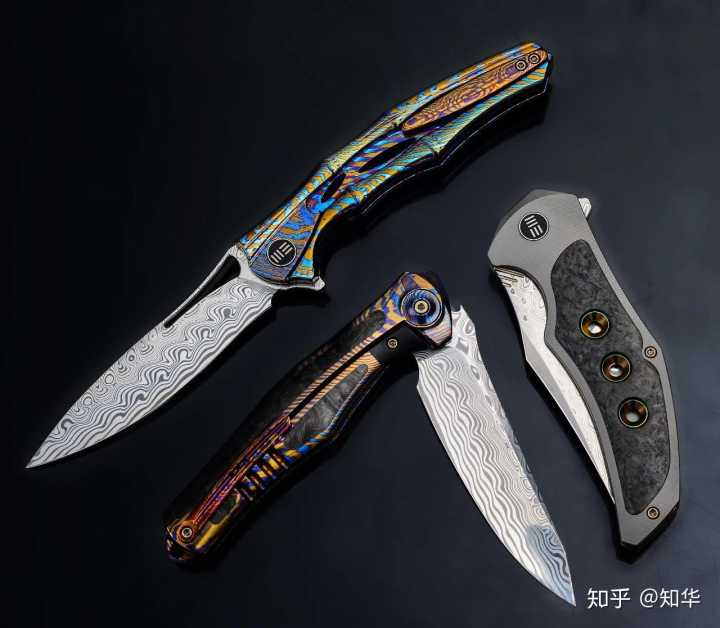knife: (8, 13, 692, 604)
